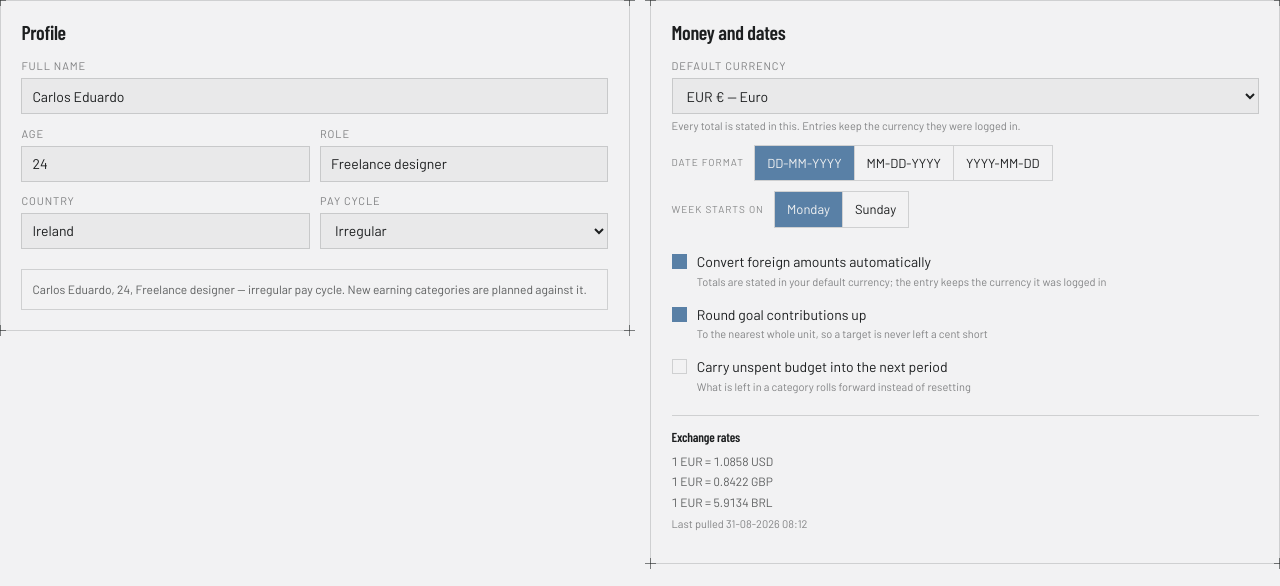
Test: SettingsPage - the profile › puts the name back when the write fails
Step 1. Replace the text in the field labelled "Full name" with "Ada" → (315, 96), box [21,78,608,114]
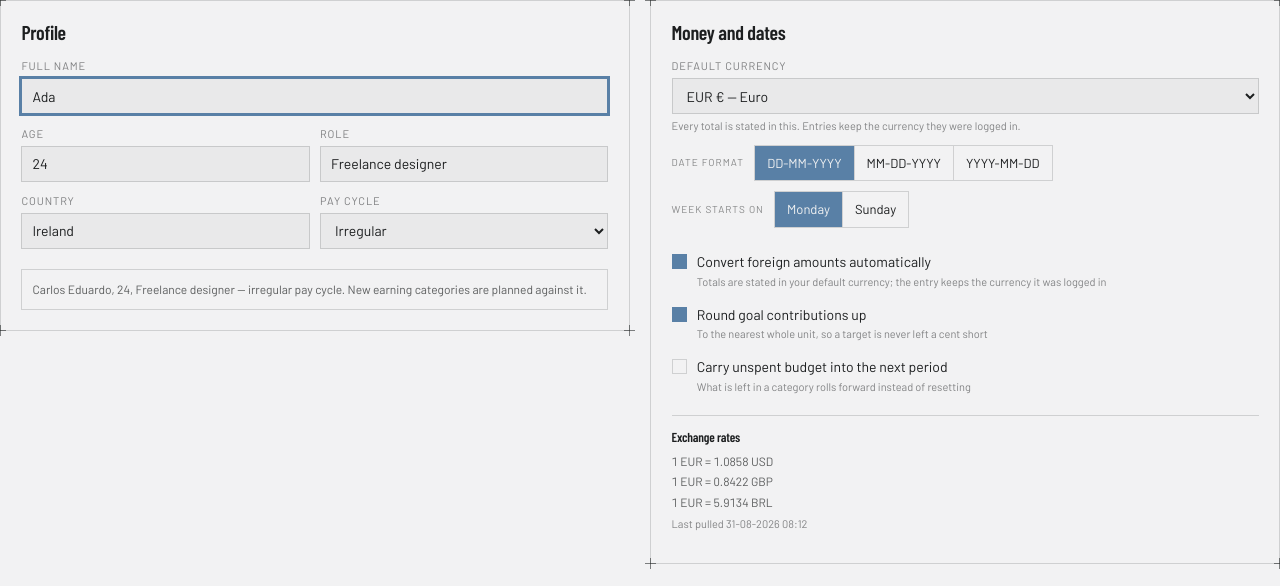
Step 2. Press Tab
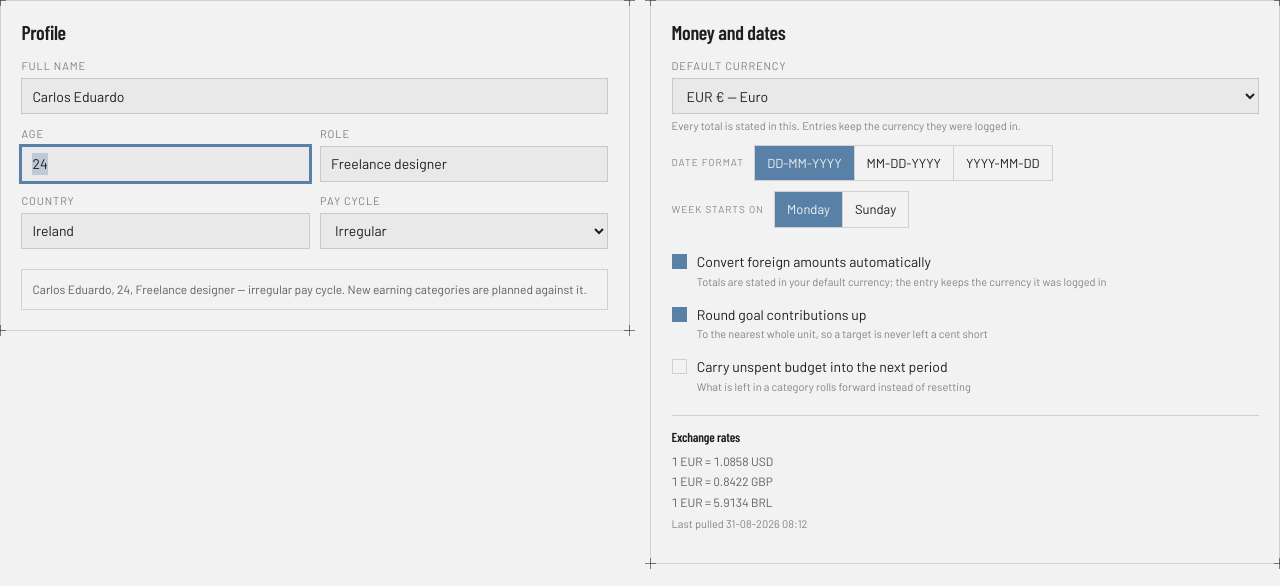
Now the field labelled "Full name" holds "Carlos Eduardo", box [21,78,608,114]
